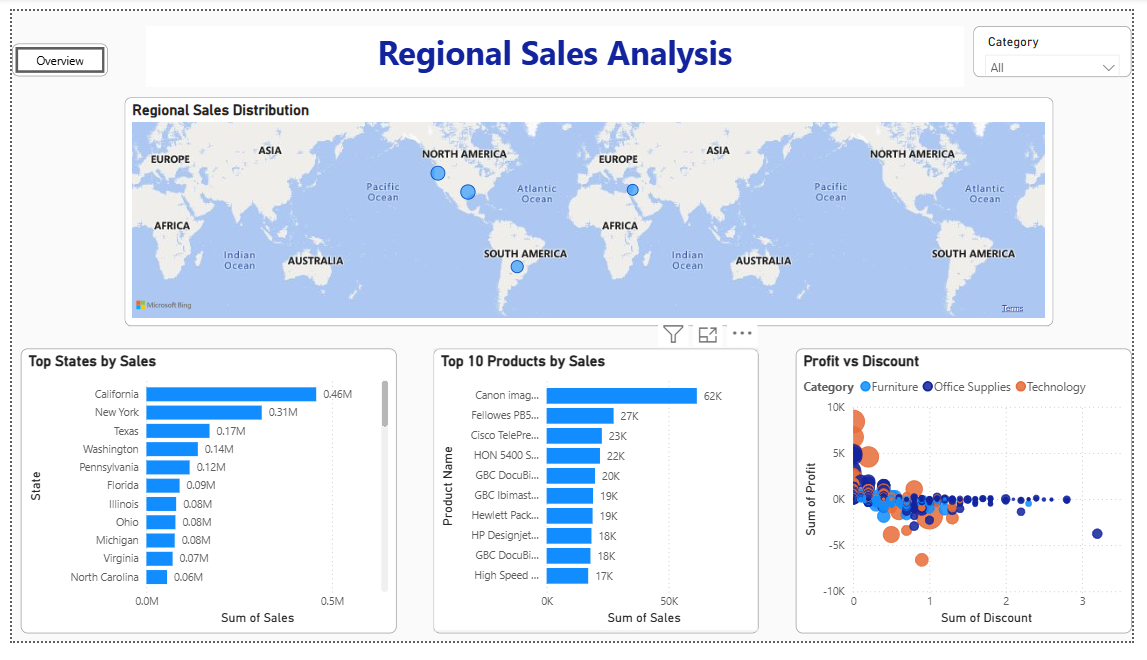

Layout of this report page (visuals, bound fields, positions):
{"tool":"powerbi","page":{"name":"Regional Analysis","canvas":[1280,720],"ordinal":1},"visuals":[{"type":"map","title":"Regional Sales Distribution","fields":{"Category":["Orders.Region"],"Size":["Sum(Orders.Sales)"]},"box":[128,98.8,1061.6,261.6],"z":0},{"type":"clusteredBarChart","title":"Top States by Sales","fields":{"Category":["Orders.State"],"Y":["Sum(Orders.Sales)"]},"box":[9.8,385.2,429.2,325.3],"z":1000},{"type":"clusteredBarChart","title":"Top 10 Products by Sales","fields":{"Category":["Orders.Product Name"],"Y":["Sum(Orders.Sales)"]},"box":[481.8,385.2,371.7,325.3],"z":2000},{"type":"scatterChart","title":"Profit vs Discount","fields":{"X":["Sum(Orders.Discount)"],"Y":["Sum(Orders.Profit)"],"Size":["Sum(Orders.Sales)"],"Series":["Orders.Category"],"Category":["Orders.Order ID"]},"box":[896,385.2,384,325.3],"z":3000},{"type":"textbox","box":[153,16.7,935,69.6],"z":4000},{"type":"slicer","fields":{"Values":["Orders.Category"]},"box":[1099.1,16.7,180.9,58.4],"z":5000},{"type":"actionButton","box":[0,37.6,109.9,37.6],"z":6000}]}

Visuals, with their boxes in screenshot pixels (x1, y1, x2, y2), scaled from the page's 1280x720 canvas onto the 1147x660 screenshot:
"Regional Sales Distribution" map: (left=115, top=91, right=1066, bottom=330)
"Top States by Sales" clusteredBarChart: (left=9, top=353, right=393, bottom=651)
"Top 10 Products by Sales" clusteredBarChart: (left=432, top=353, right=765, bottom=651)
"Profit vs Discount" scatterChart: (left=803, top=353, right=1146, bottom=651)
textbox: (left=137, top=15, right=975, bottom=79)
slicer - Orders.Category: (left=985, top=15, right=1146, bottom=69)
actionButton: (left=0, top=34, right=98, bottom=69)
